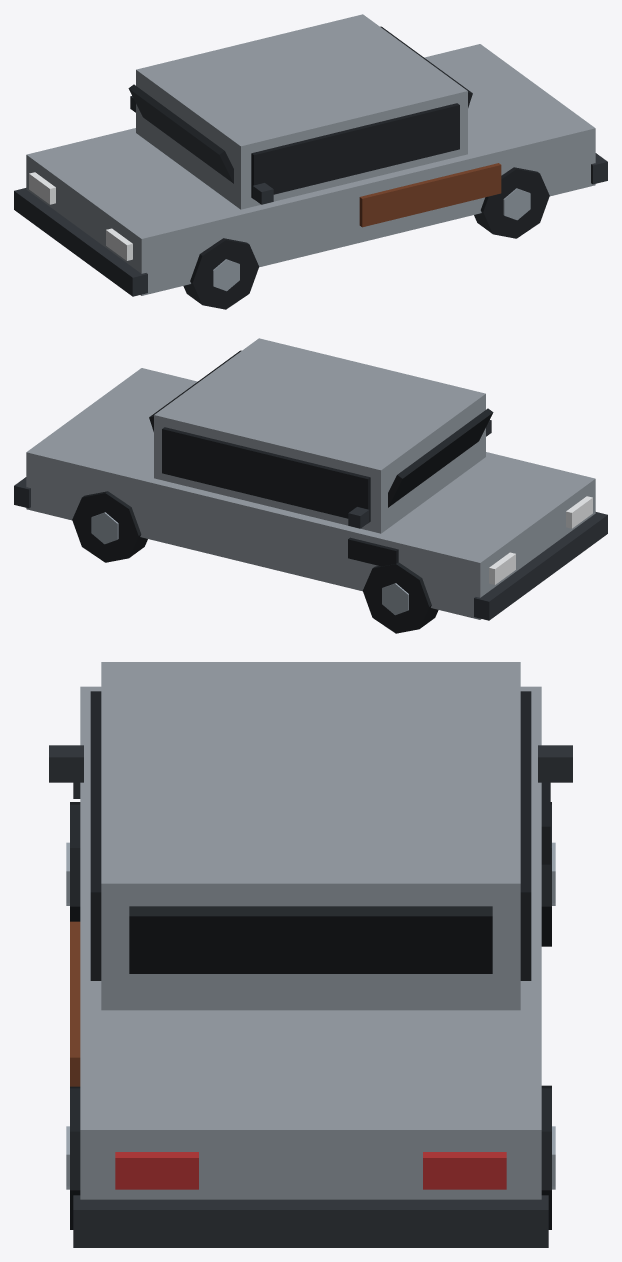
The model's file is prop_civilian_car.fbx.
The picture shows the model from 3 angles, top to bottom: view 1: azimuth 30°, elevation 25°; view 2: azimuth 150°, elevation 25°; view 3: azimuth 270°, elevation 25°; orthographic projection. The views are drawn at different scales.
Parts seen in each view (by area): view 1: prop_civilian_car; view 2: prop_civilian_car; view 3: prop_civilian_car.
Boxes of the visible parts, x1,y1,x2,y2 form: prop_civilian_car: (14, 14, 607, 309); prop_civilian_car: (14, 338, 607, 633); prop_civilian_car: (49, 662, 572, 1247).
Size of the model in its own units: 1570 by 480 by 750.
